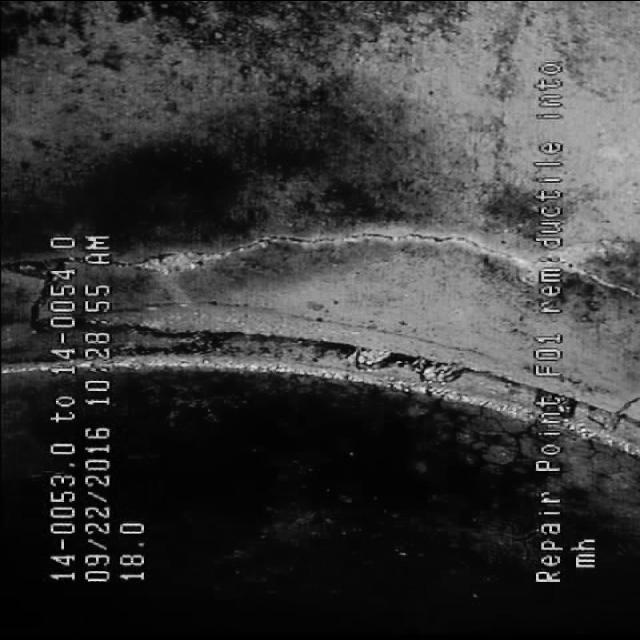Crack: (8, 180, 626, 334)
